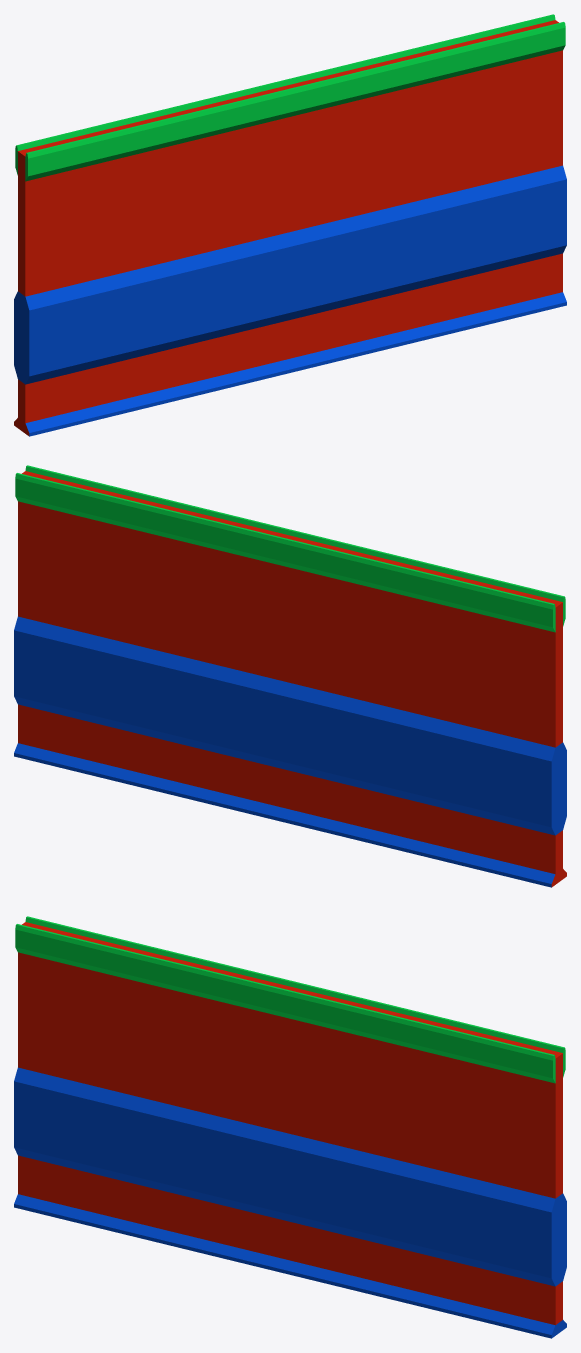
The model's file is Wall_Sci-Fi_02.fbx.
3 views of the same model, one above another, from view 1: azimuth 30°, elevation 25°; view 2: azimuth 150°, elevation 25°; view 3: azimuth 330°, elevation 25° (orthographic).
Parts seen in each view (by area): view 1: Wall_Body_N; view 2: Wall_Body_N; view 3: Wall_Body_N.
Boxes of the visible parts, <box> form: Wall_Body_N: <box>14,14,566,436</box>; Wall_Body_N: <box>14,465,566,887</box>; Wall_Body_N: <box>14,916,566,1338</box>.
Bounding box in the file's own units: 800 × 400 × 39.5.
